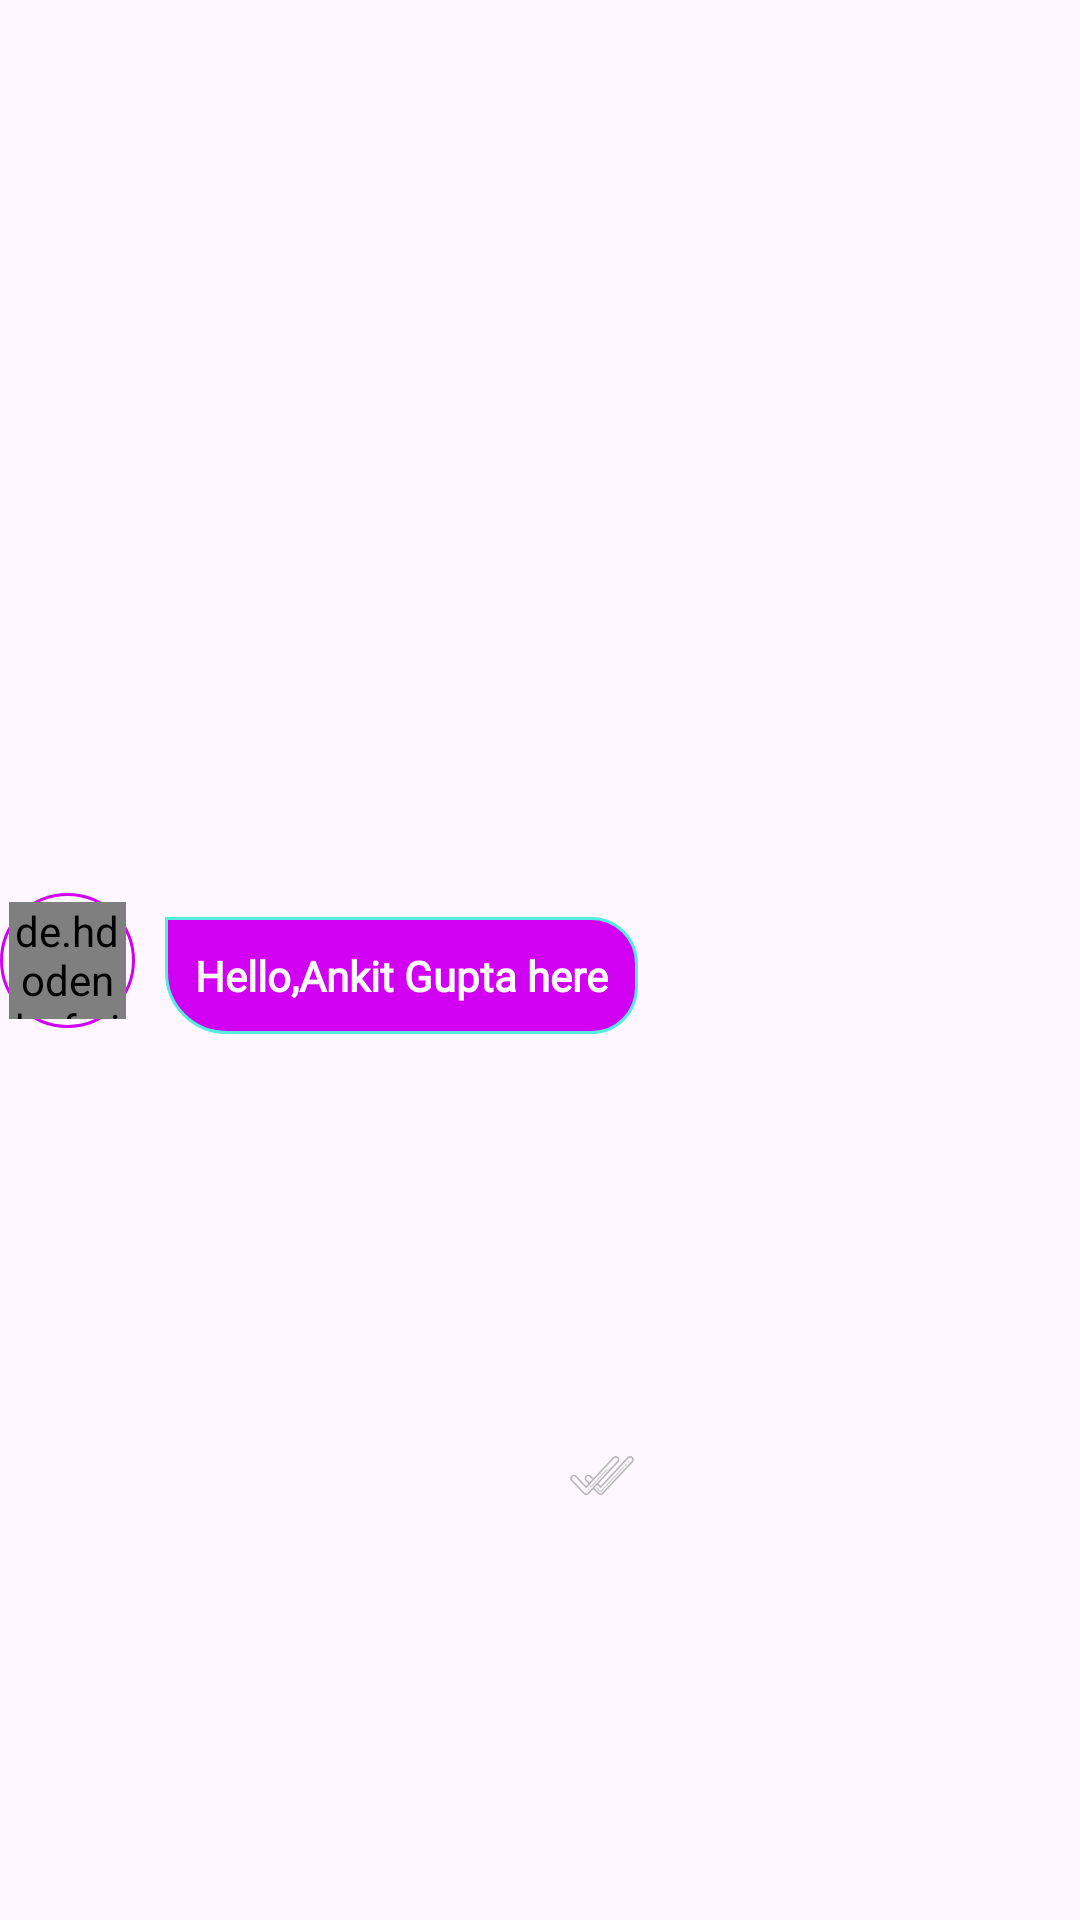

Named icons in this screenshot (1080w x 1920h) and their bounding boxes, (x1, y1, x2, y2):
check mark: (570, 1456, 634, 1495)
